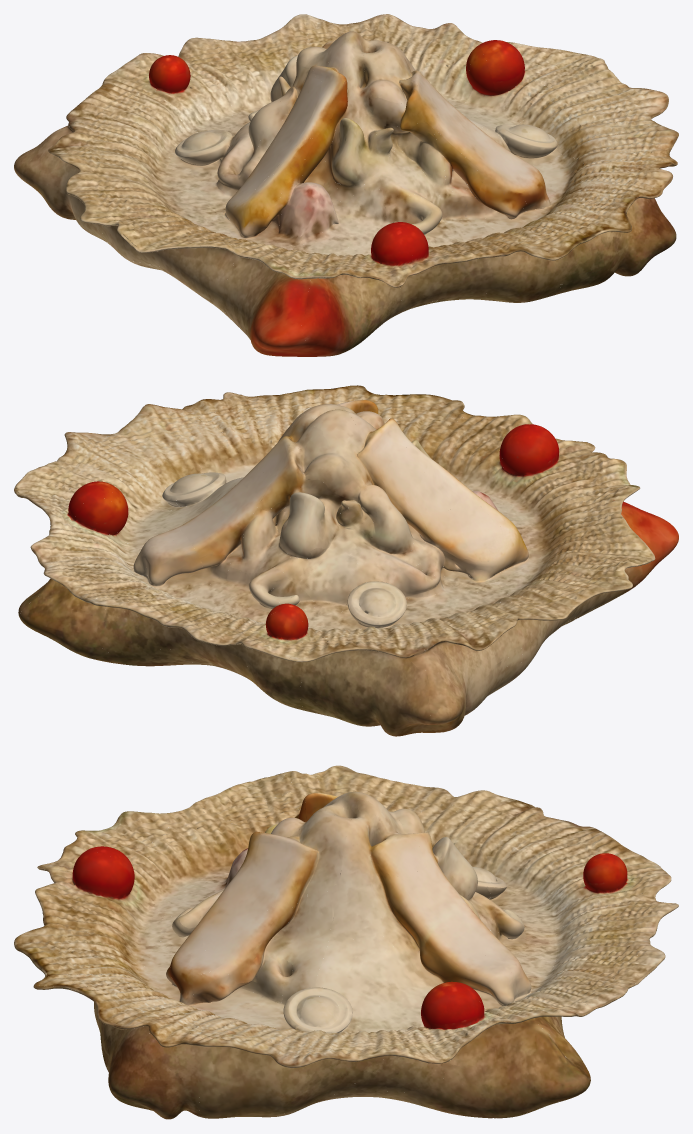
The model's file is sezar2.glb.
3 views of the same model, one above another, from view 1: azimuth 30°, elevation 25°; view 2: azimuth 150°, elevation 25°; view 3: azimuth 270°, elevation 25° (orthographic). The views are drawn at different scales.
Parts seen in each view (by area): view 1: sezar; view 2: sezar; view 3: sezar.
Boxes of the visible parts, bbox=[...] form: sezar: bbox=[14, 14, 678, 356]; sezar: bbox=[14, 385, 678, 736]; sezar: bbox=[14, 765, 678, 1119].
Size of the model in its own units: 0.9823 by 0.3935 by 0.9236.
1 material, 1 textured.
